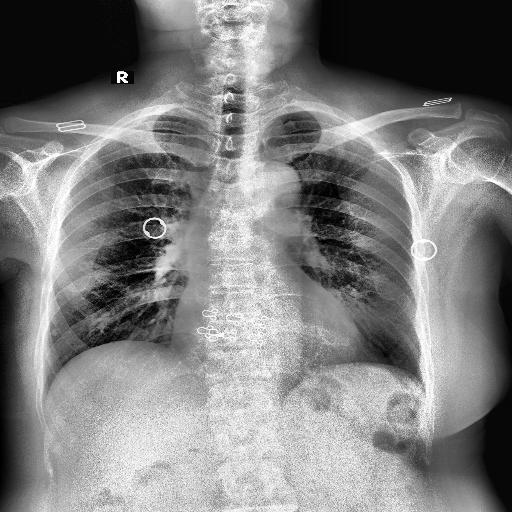0- Aortic enlargement: (234, 162, 302, 212), (242, 159, 301, 214)
3- Cardiomegaly: (163, 298, 374, 363)
8- Nodule-Mass: (50, 328, 58, 336)
